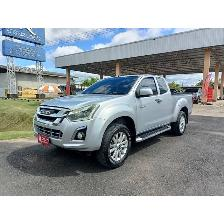NON-EV: (34, 72, 194, 170)
